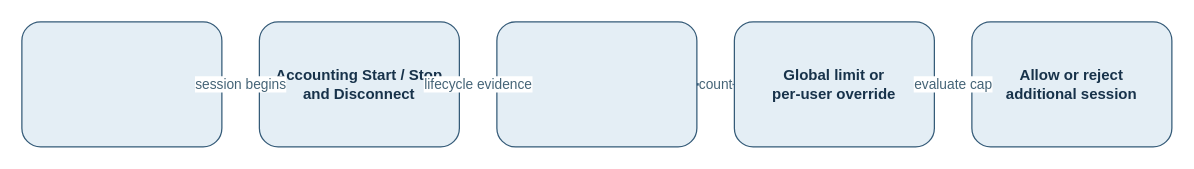
This 1194x169 diagram has some shape labels left out. Each missing label, with the box of its shape:
Endpoint authentication RADIUS / VPN / agent: (21, 21, 222, 147)
FortiNAC session state registered / logged-in: (496, 21, 697, 147)
